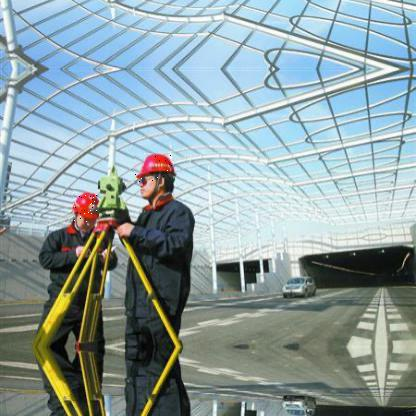safetyhelmet: (134, 154, 174, 184), (73, 190, 98, 224)
